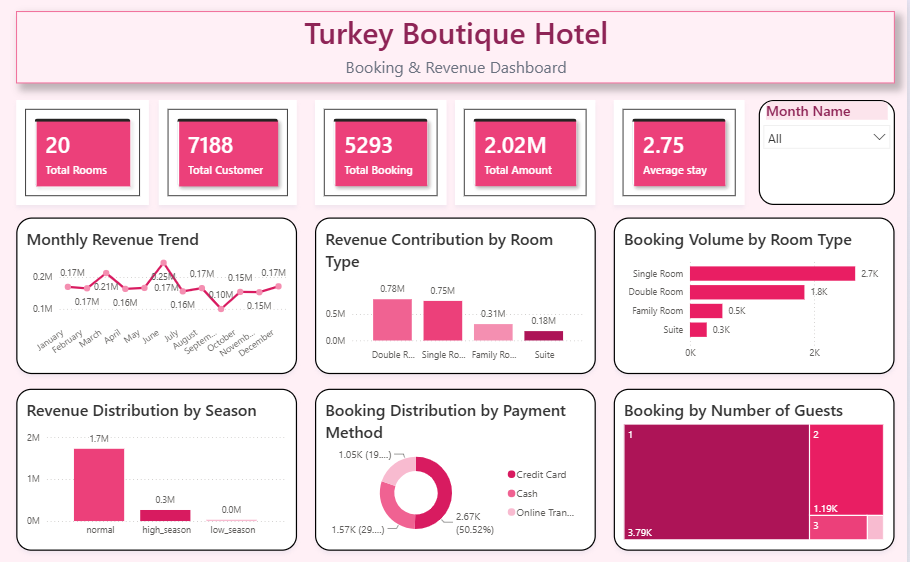

Layout of this report page (visuals, bound fields, positions):
{"tool":"powerbi","page":{"name":"Page 1","canvas":[1210,760],"ordinal":0},"visuals":[{"type":"cardVisual","fields":{"Data":["customers.Total Customer"]},"box":[211.4,132.9,184.3,140],"z":0},{"type":"cardVisual","fields":{"Data":["orders.Total Amount"]},"box":[607.1,132.9,187.1,140],"z":1000},{"type":"cardVisual","fields":{"Data":["rooms.Total Rooms Available"]},"box":[21.4,132.9,177.1,140],"z":2000},{"type":"cardVisual","fields":{"Data":["orders.Average stay Duration"]},"box":[818.6,132.9,174.3,140],"z":3000},{"type":"cardVisual","fields":{"Data":["orders.Total Booking"]},"box":[420,132.9,175.7,140],"z":4000},{"type":"columnChart","title":"Revenue Contribution by Room Type","fields":{"Y":["orders.Total Amount"],"Category":["rooms.RoomType"]},"box":[420,290,374.3,208.6],"z":5000},{"type":"lineChart","title":"Monthly Revenue Trend","fields":{"Category":["orders.CheckInDate.Variation.Date Hierarchy.Month"],"Y":["orders.Total Amount"]},"box":[21.4,290,374.3,208.6],"z":6000},{"type":"donutChart","title":"Booking Distribution by Payment Method","fields":{"Category":["orders.PaymentMethod"],"Y":["CountNonNull(orders.OrderID)"]},"box":[420,518,374,216],"z":7000},{"type":"treemap","title":"Booking by Number of Guests","fields":{"Group":["orders.CustomerCount"],"Values":["CountNonNull(orders.OrderID)"]},"box":[818,518,374,216],"z":8000},{"type":"clusteredBarChart","title":"Booking Volume by Room Type","fields":{"Category":["rooms.RoomType"],"Y":["CountNonNull(orders.OrderID)"]},"box":[818.6,290,374.3,208.6],"z":9000},{"type":"clusteredColumnChart","title":"Revenue Distribution by Season","fields":{"Category":["orders.SeasonalFactor"],"Y":["orders.Total Amount"]},"box":[22,518,374,216],"z":10000},{"type":"slicer","fields":{"Values":["orders.Month Name"]},"box":[1011.4,132.9,181.4,140],"z":14000},{"type":"textbox","title":"Turkey Boutique Hotel","box":[21.4,14.3,1171.4,95.7],"z":16000}]}

Visuals, with their boxes in screenshot pixels (x1, y1, x2, y2), scaled from the page's 1210x760 canvas onto the 910x562 screenshot:
cardVisual - customers.Total Customer: bbox=(159, 98, 298, 202)
cardVisual - orders.Total Amount: bbox=(457, 98, 597, 202)
cardVisual - rooms.Total Rooms Available: bbox=(16, 98, 149, 202)
cardVisual - orders.Average stay Duration: bbox=(616, 98, 747, 202)
cardVisual - orders.Total Booking: bbox=(316, 98, 448, 202)
"Revenue Contribution by Room Type" columnChart: bbox=(316, 214, 597, 369)
"Monthly Revenue Trend" lineChart: bbox=(16, 214, 298, 369)
"Booking Distribution by Payment Method" donutChart: bbox=(316, 383, 597, 543)
"Booking by Number of Guests" treemap: bbox=(615, 383, 896, 543)
"Booking Volume by Room Type" clusteredBarChart: bbox=(616, 214, 897, 369)
"Revenue Distribution by Season" clusteredColumnChart: bbox=(17, 383, 298, 543)
slicer - orders.Month Name: bbox=(761, 98, 897, 202)
"Turkey Boutique Hotel" textbox: bbox=(16, 11, 897, 81)
